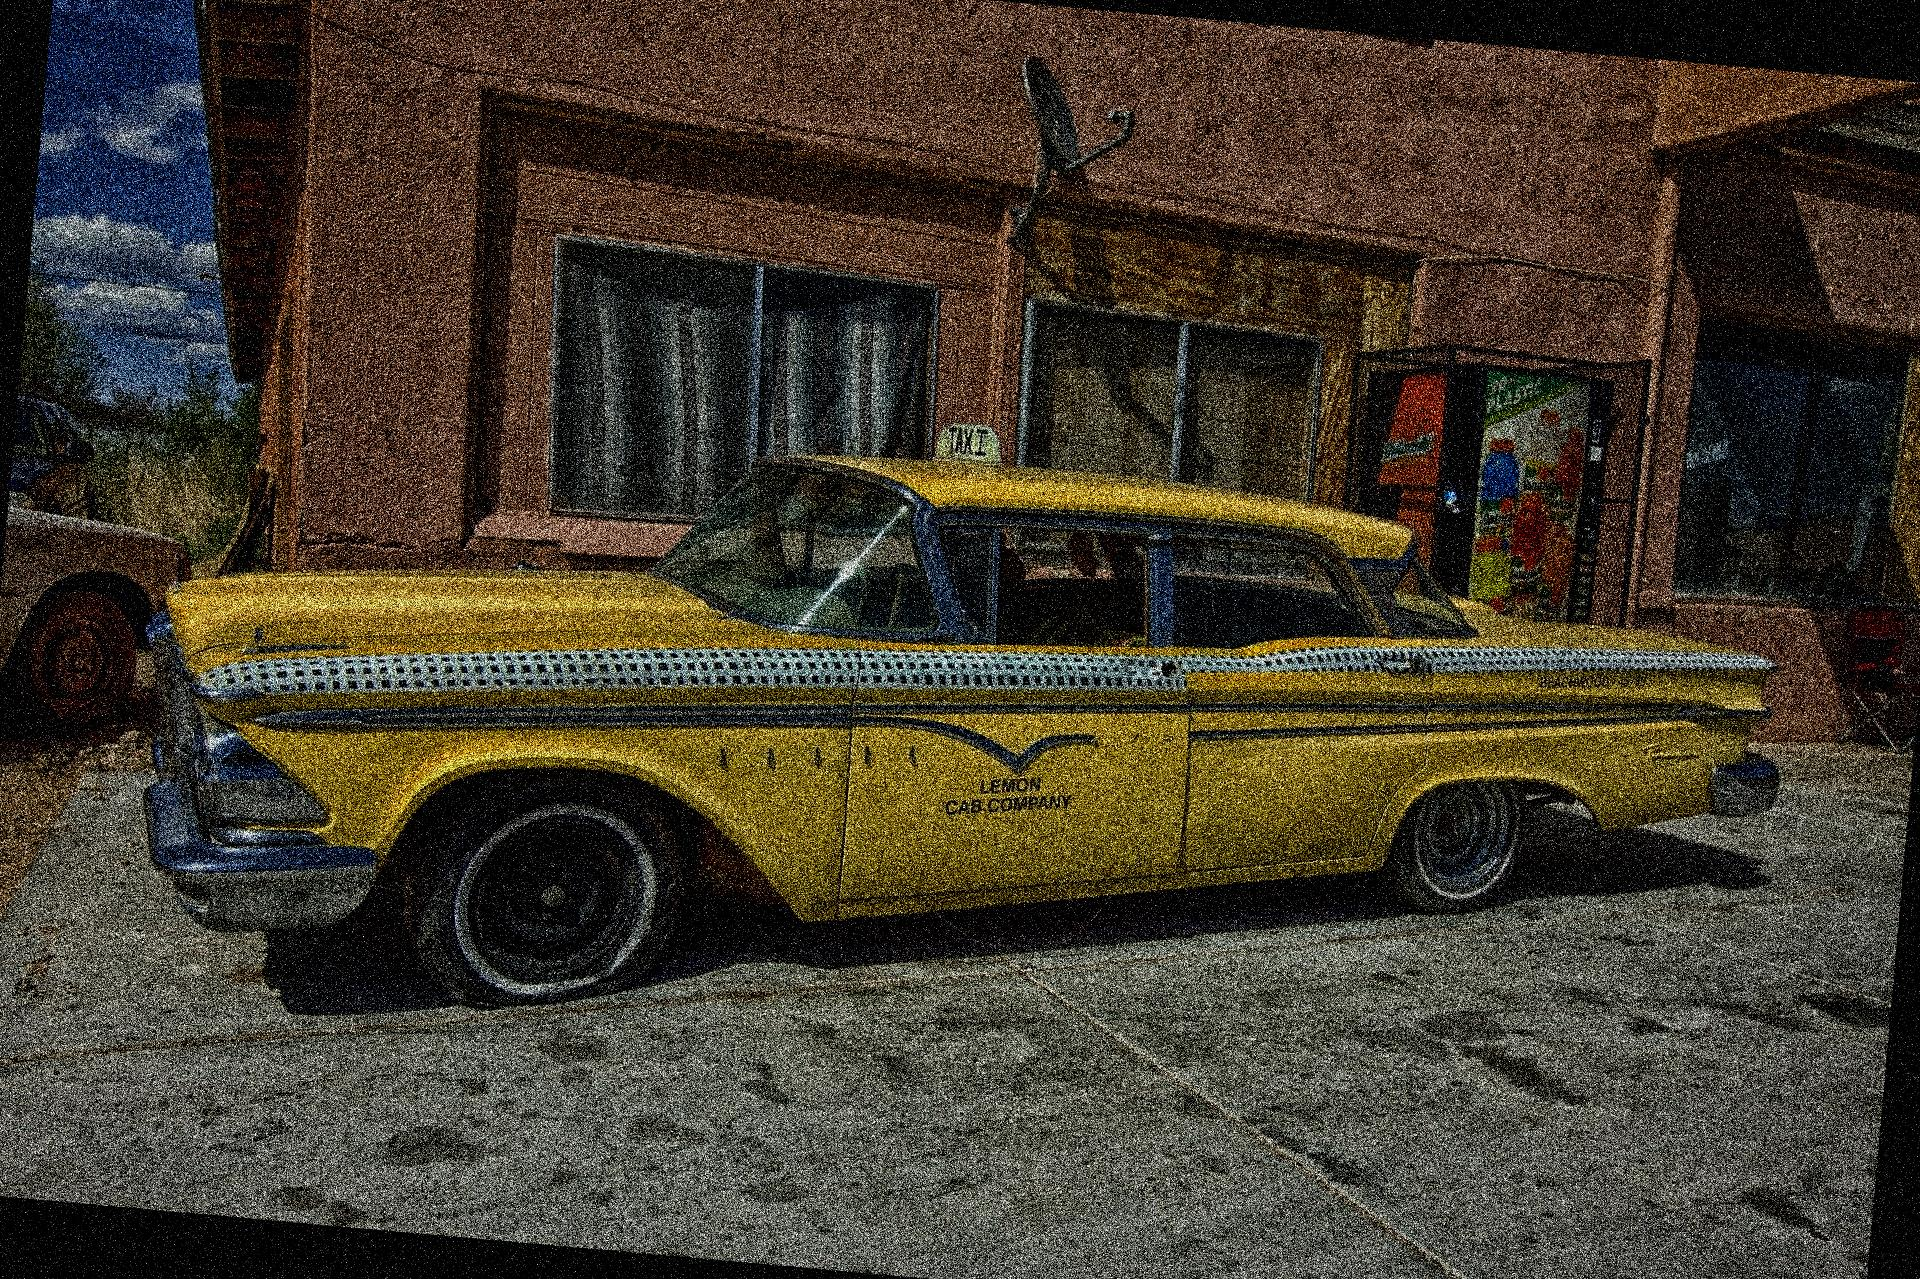taxi: (100, 497, 1804, 971)
